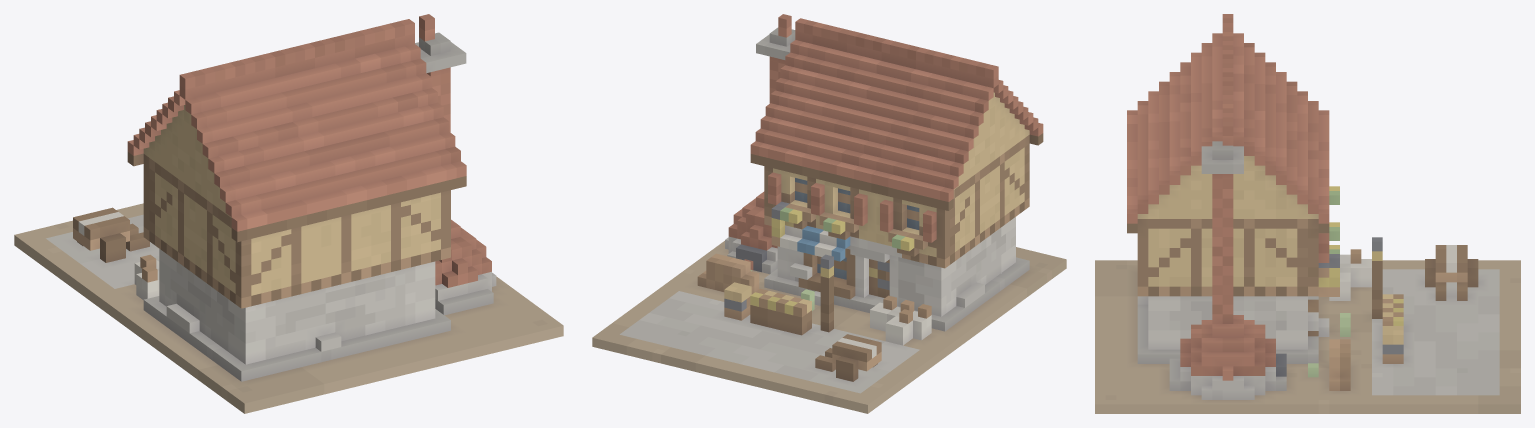
File: bakery.glb
The picture shows the model from 3 angles, left to right: view 1: azimuth 30°, elevation 25°; view 2: azimuth 150°, elevation 25°; view 3: azimuth 270°, elevation 25°; orthographic projection. The views are drawn at different scales.
Parts seen in each view (by area): view 1: bakery; view 2: bakery; view 3: bakery.
Boxes of the visible parts, bbox=[...] form: bakery: bbox=[14, 14, 563, 413]; bakery: bbox=[592, 14, 1066, 413]; bakery: bbox=[1095, 14, 1520, 413].
Size of the model in its own units: 4 by 3.38 by 5.
